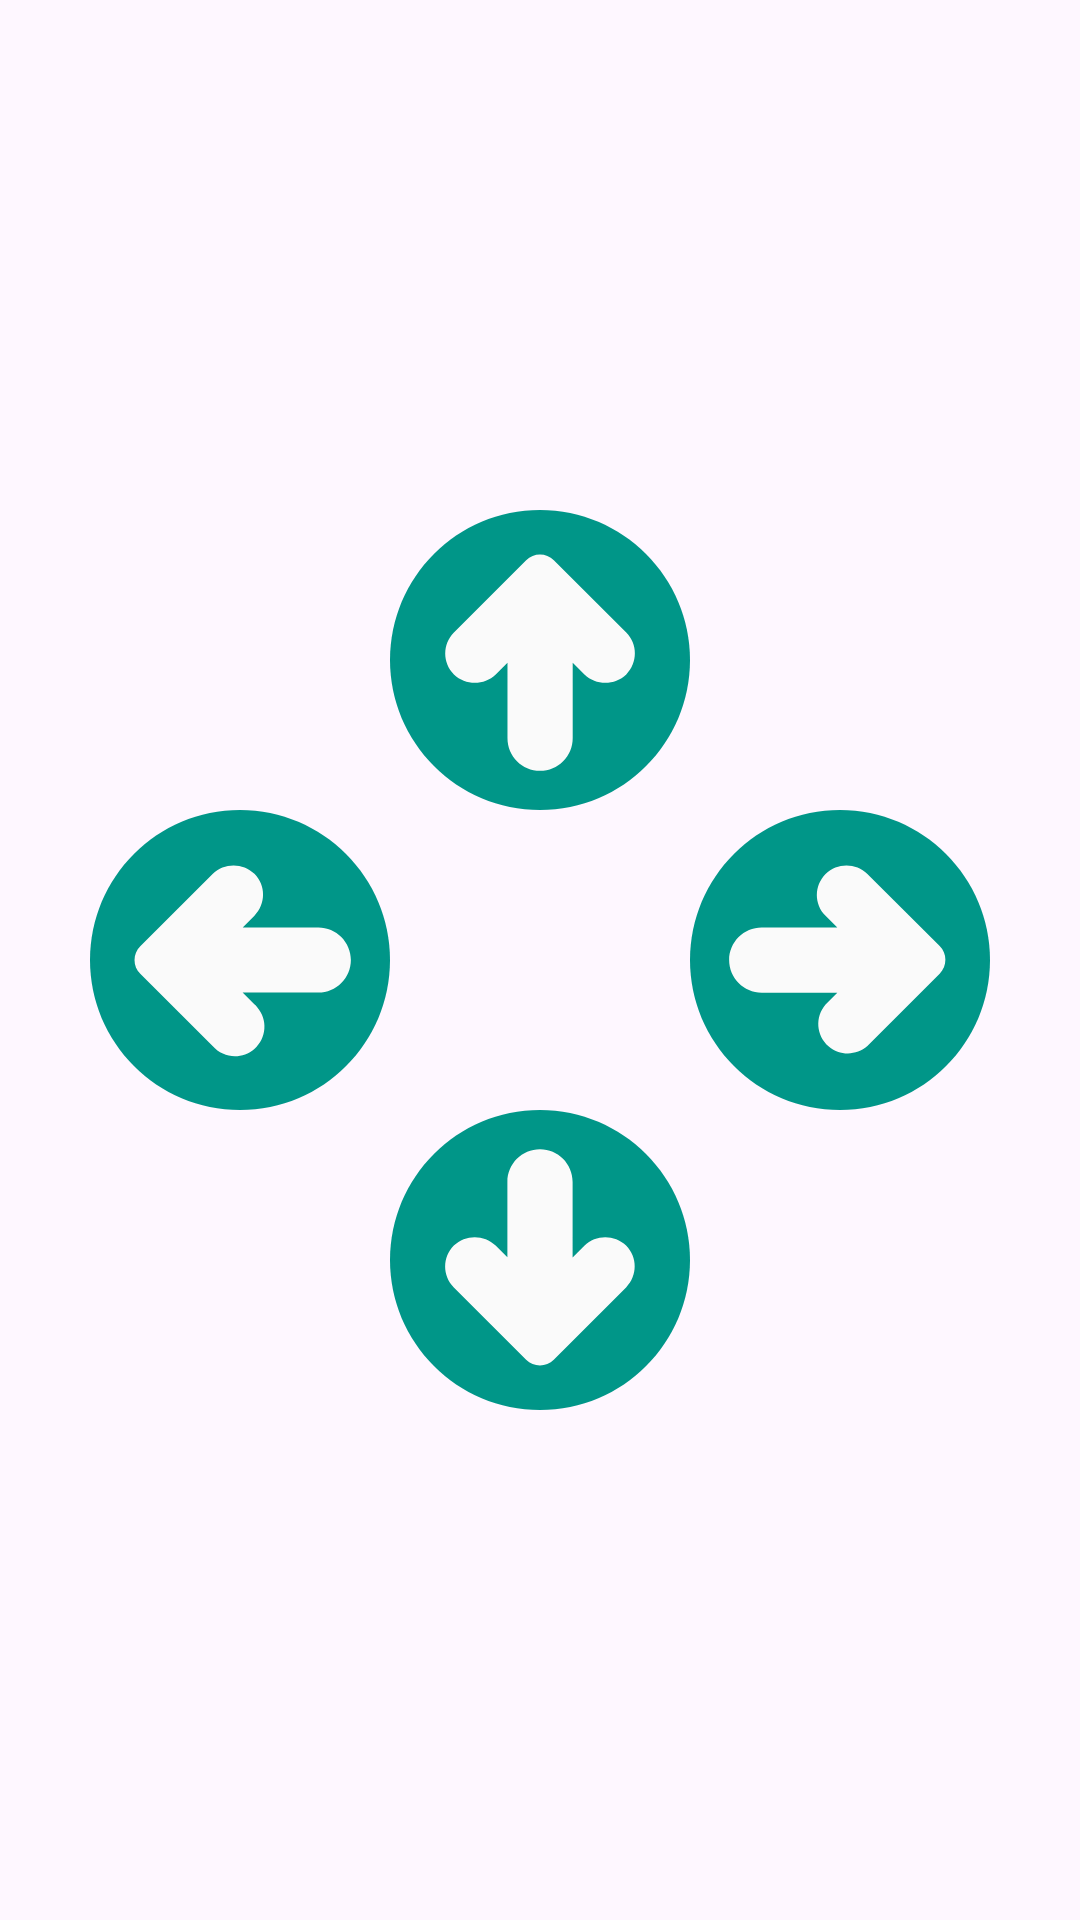

Point at icon controls on the screen. Image size 1080*1920, points as [x,y].
down: [540,1260]
left: [240,960]
right: [840,960]
